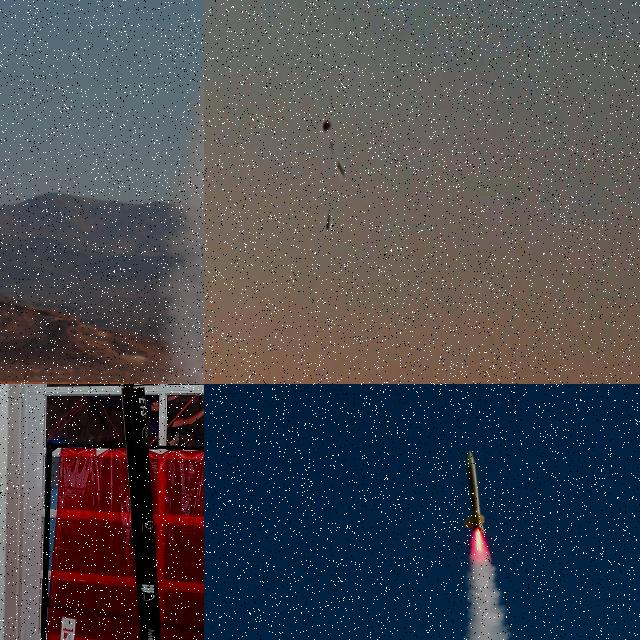Rocket: (121, 384, 162, 640), (464, 450, 486, 534), (326, 213, 331, 230)
